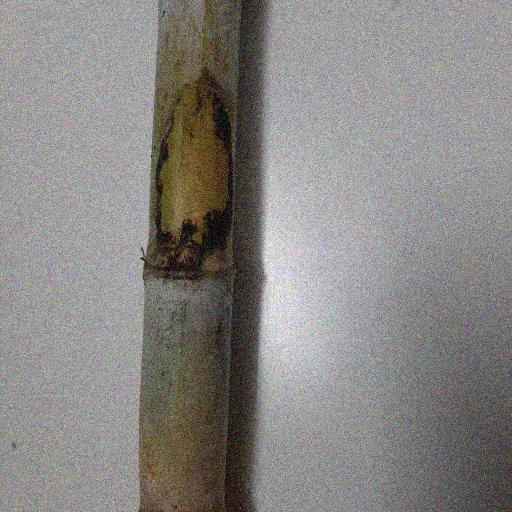Bud: (173, 242, 201, 273)
